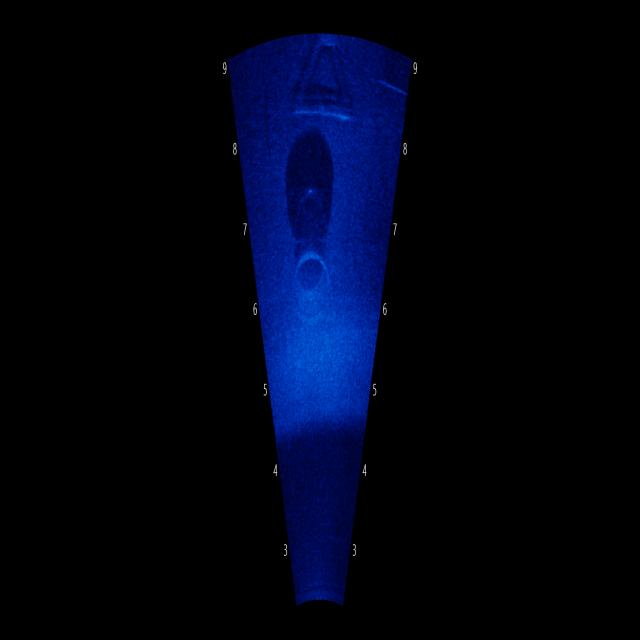circle: (283, 231, 351, 349)
triangle: (274, 28, 369, 134)
